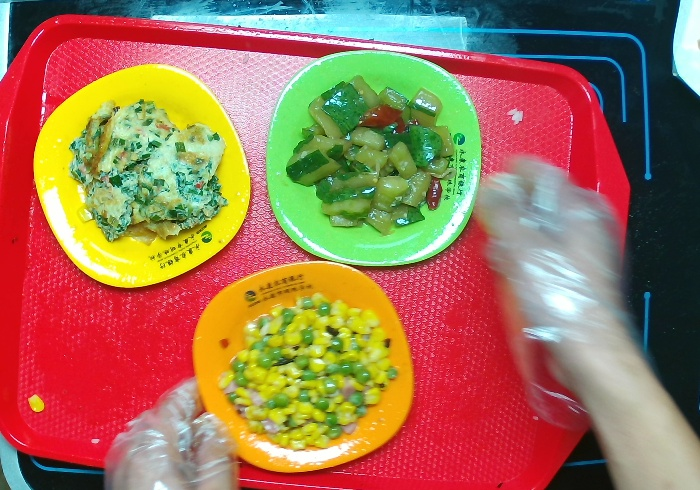YKMZ-Huang_Se_Fang_Die: (28, 62, 254, 292)
YKMZ-Ju_Se_Fang_Die: (190, 260, 417, 474)
YKMZ-Lv_Se_Fang_Die: (261, 52, 482, 271)
